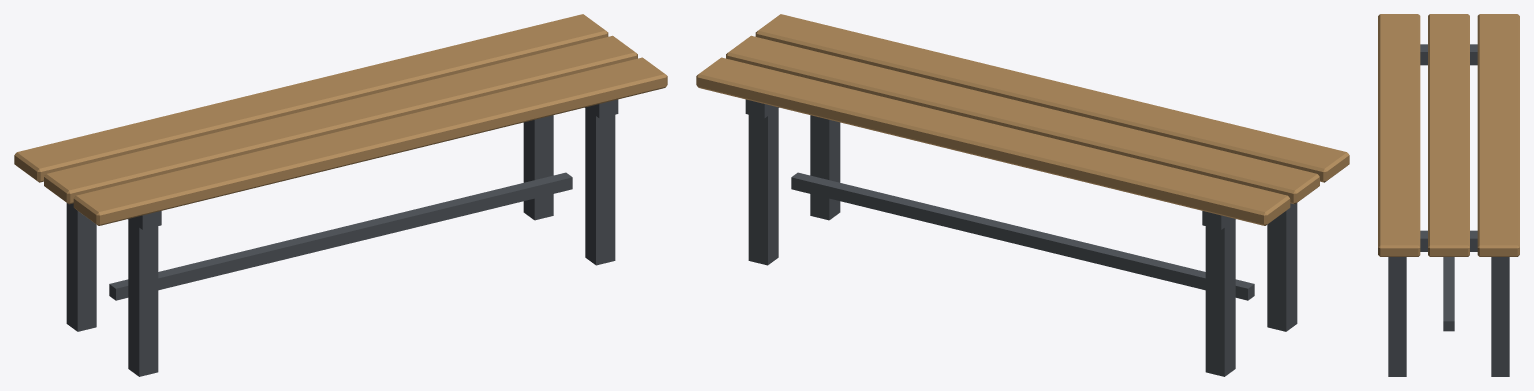
File: bench.glb
The picture shows the model from 3 angles, left to right: view 1: azimuth 30°, elevation 25°; view 2: azimuth 150°, elevation 25°; view 3: azimuth 270°, elevation 25°; orthographic projection. The views are drawn at different scales.
Parts seen in each view (by area): view 1: Bench; view 2: Bench; view 3: Bench.
Part boxes in pixels (left/top/right/bottom): Bench: left=14, top=14, right=667, bottom=376; Bench: left=696, top=14, right=1349, bottom=376; Bench: left=1378, top=14, right=1519, bottom=376.
Size of what is drawn, in the model's own units: 1.5 by 0.45 by 0.385.
